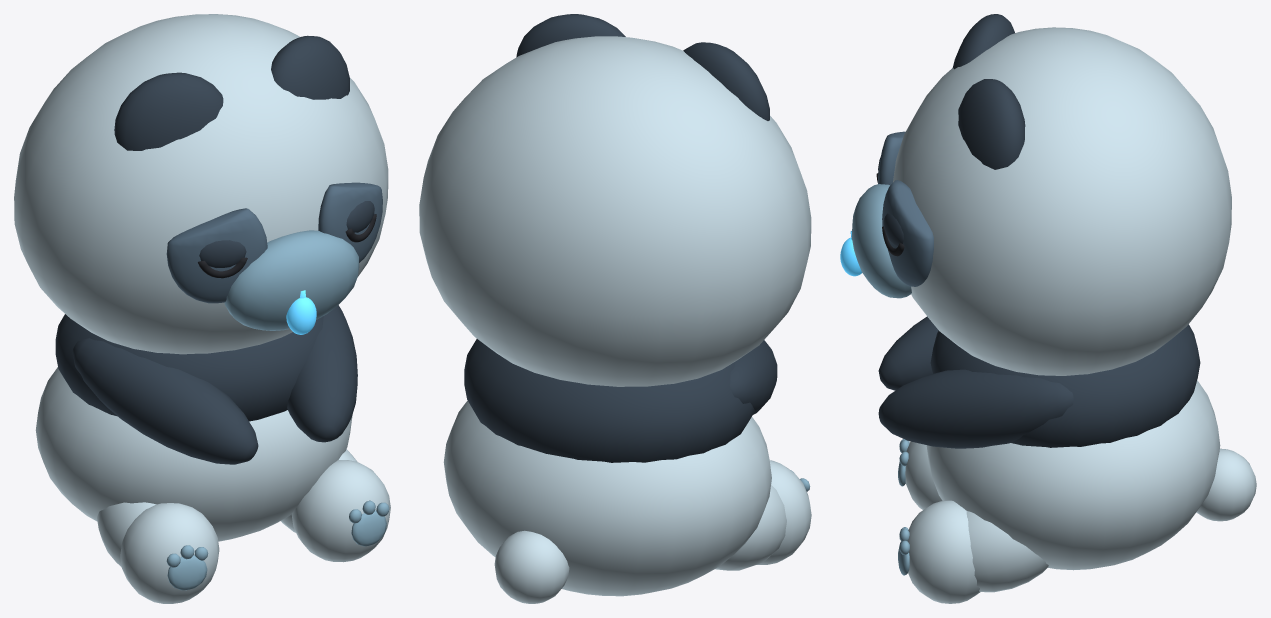
File: panda_boba.glb
The picture shows the model from 3 angles, left to right: view 1: azimuth 30°, elevation 25°; view 2: azimuth 150°, elevation 25°; view 3: azimuth 270°, elevation 25°; orthographic projection. The views are drawn at different scales.
Visible parts, largest first — view 1: HeadMesh, BodyLower, Arm_-1, ChestUpper, PowderMuzzle, Foot_-1, Arm_1, Foot_1, Ear_L, EyePatch_L, Ear_R, EyePatch_R (+6 smaller); view 2: HeadMesh, BodyLower, ChestUpper, Tail, Ear_L, Foot_-1, Arm_-1, Leg_-1, Ear_R; view 3: HeadMesh, BodyLower, ChestUpper, Arm_1, Foot_1, Ear_R, Leg_1, PowderMuzzle, EyePatch_R, Tail, Arm_-1, Ear_L (+2 smaller).
Part boxes in pixels (box(x1,y1,x2,y2)): HeadMesh: box(14, 14, 388, 354); BodyLower: box(35, 367, 352, 541); Arm_-1: box(72, 338, 258, 464); ChestUpper: box(55, 314, 323, 421); PowderMuzzle: box(224, 230, 359, 330); Foot_-1: box(120, 503, 219, 603); Arm_1: box(287, 305, 357, 442); Foot_1: box(291, 460, 390, 562); Ear_L: box(114, 72, 223, 150); EyePatch_L: box(166, 208, 267, 303); Ear_R: box(271, 35, 349, 99); EyePatch_R: box(318, 182, 382, 262); HeadMesh: box(419, 36, 811, 386); BodyLower: box(443, 400, 771, 596); ChestUpper: box(464, 339, 754, 462); Tail: box(494, 530, 569, 603); Ear_L: box(683, 42, 769, 120); Foot_-1: box(757, 460, 811, 564); Arm_-1: box(729, 340, 777, 414); Leg_-1: box(715, 485, 786, 570); Ear_R: box(516, 14, 625, 57); HeadMesh: box(893, 27, 1231, 375); BodyLower: box(926, 380, 1220, 570); ChestUpper: box(930, 324, 1200, 447); Arm_1: box(878, 369, 1073, 448); Foot_1: box(907, 500, 980, 603); Ear_R: box(958, 79, 1025, 169); Leg_1: box(966, 510, 1048, 592); PowderMuzzle: box(852, 184, 911, 298); EyePatch_R: box(882, 180, 933, 286); Tail: box(1196, 448, 1256, 521); Arm_-1: box(878, 316, 938, 390); Ear_L: box(952, 14, 1014, 69).
Bounding box in the file's own units: 0.979 × 1.42 × 1.05.
